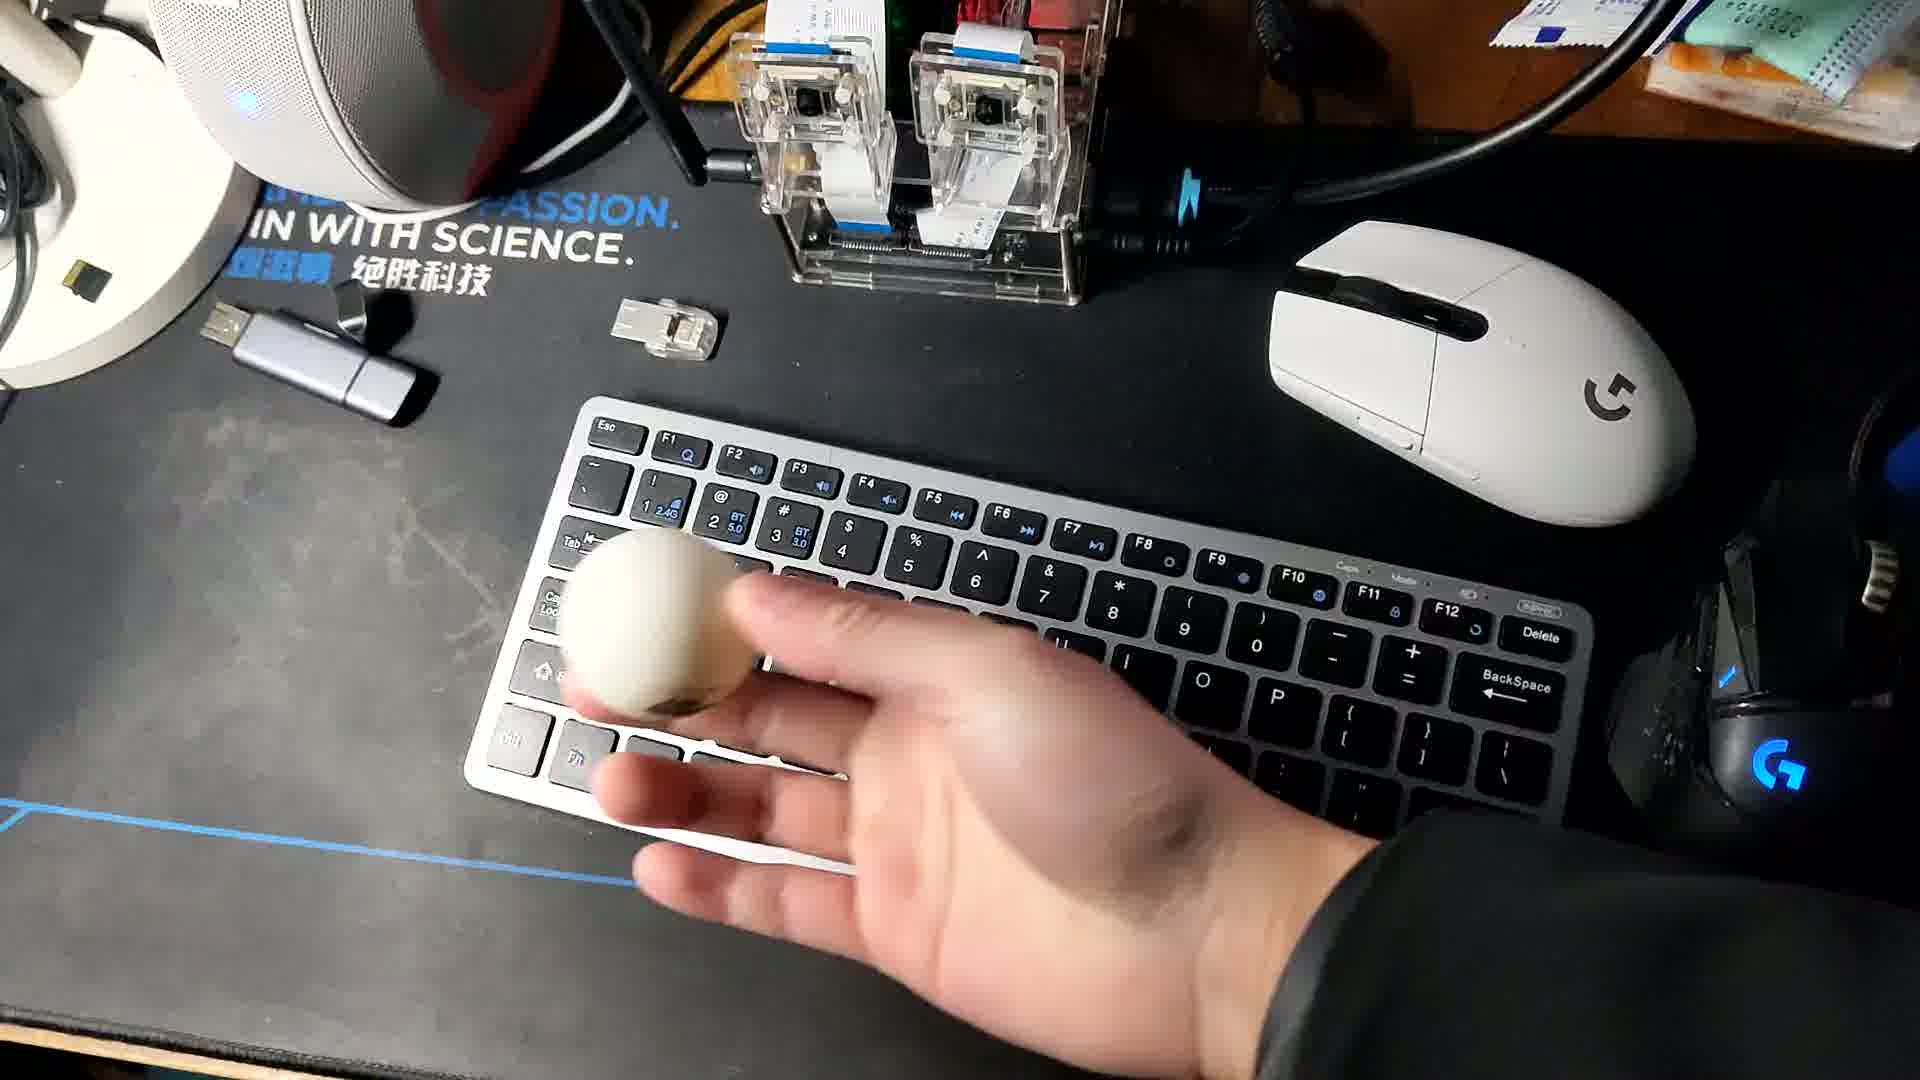Ball: (555, 526, 761, 727)
